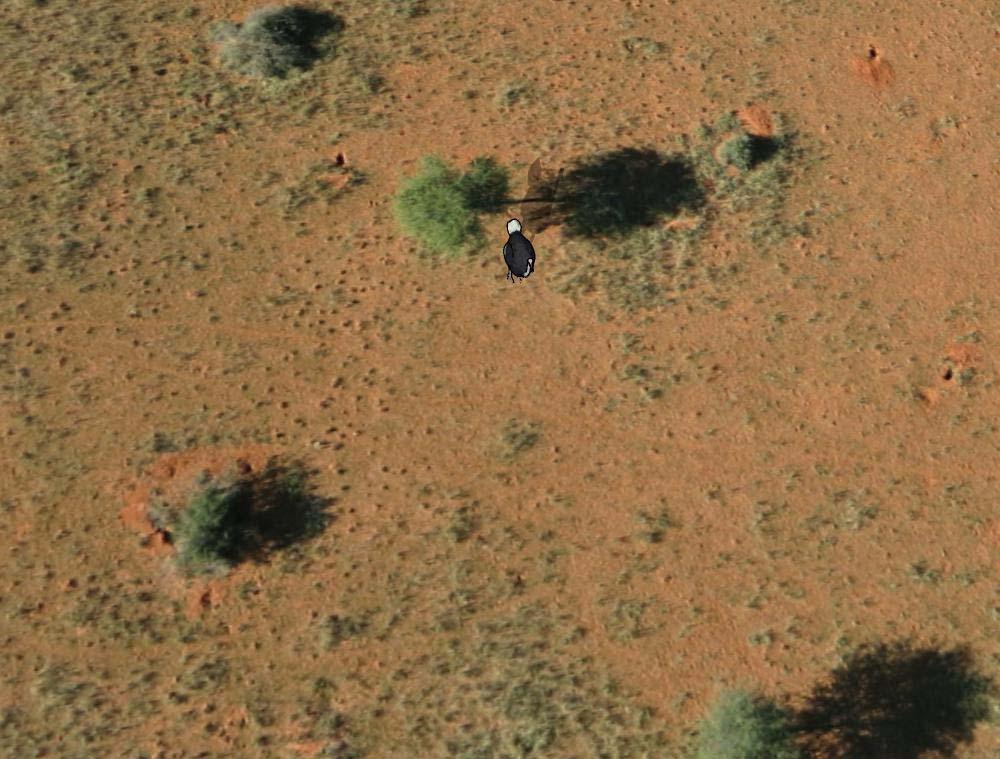ostrich: (495, 220, 542, 285)
